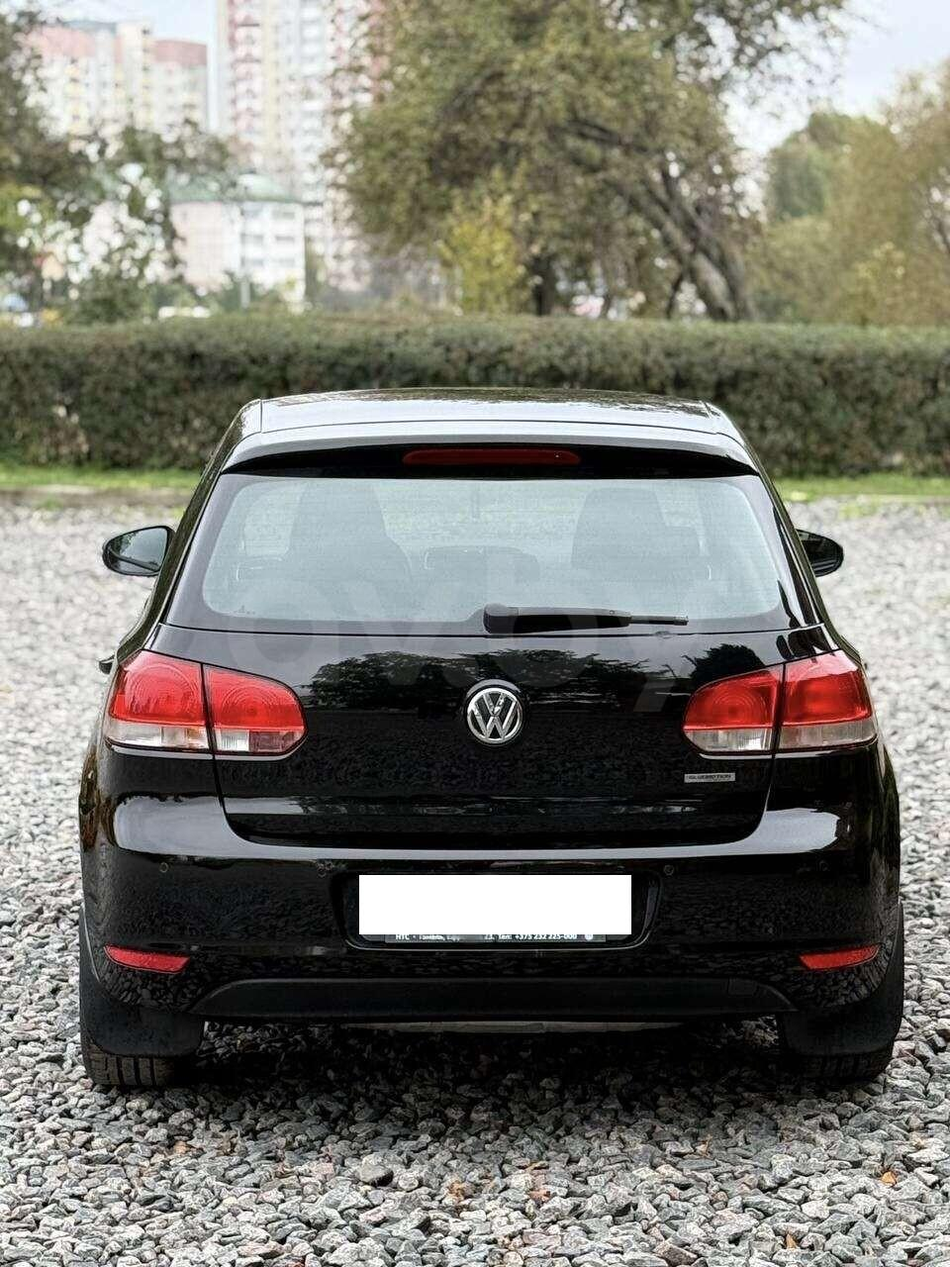Golf_2008-2013: (64, 377, 914, 1105)
